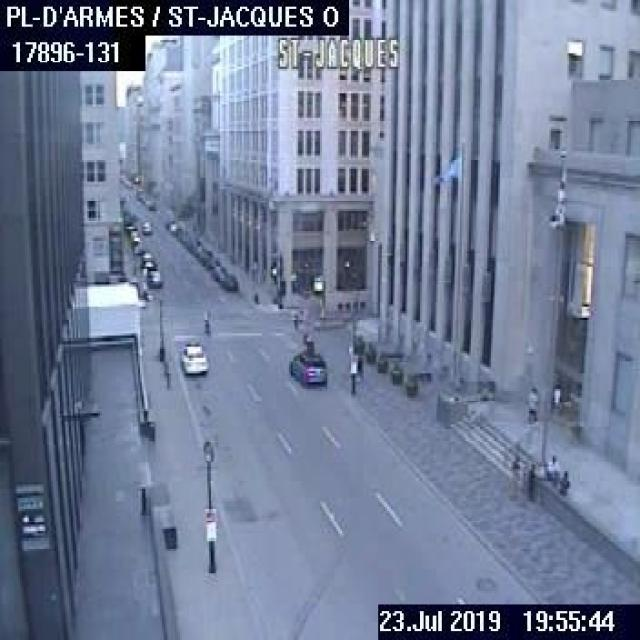pedestrian: (524, 385, 538, 423), (547, 451, 558, 485), (353, 344, 362, 382), (201, 309, 209, 333)
vehicle: (288, 349, 326, 384), (178, 343, 206, 372), (219, 270, 236, 288), (146, 268, 162, 286), (211, 264, 225, 280), (140, 257, 156, 269), (140, 218, 150, 234), (140, 249, 152, 258)
